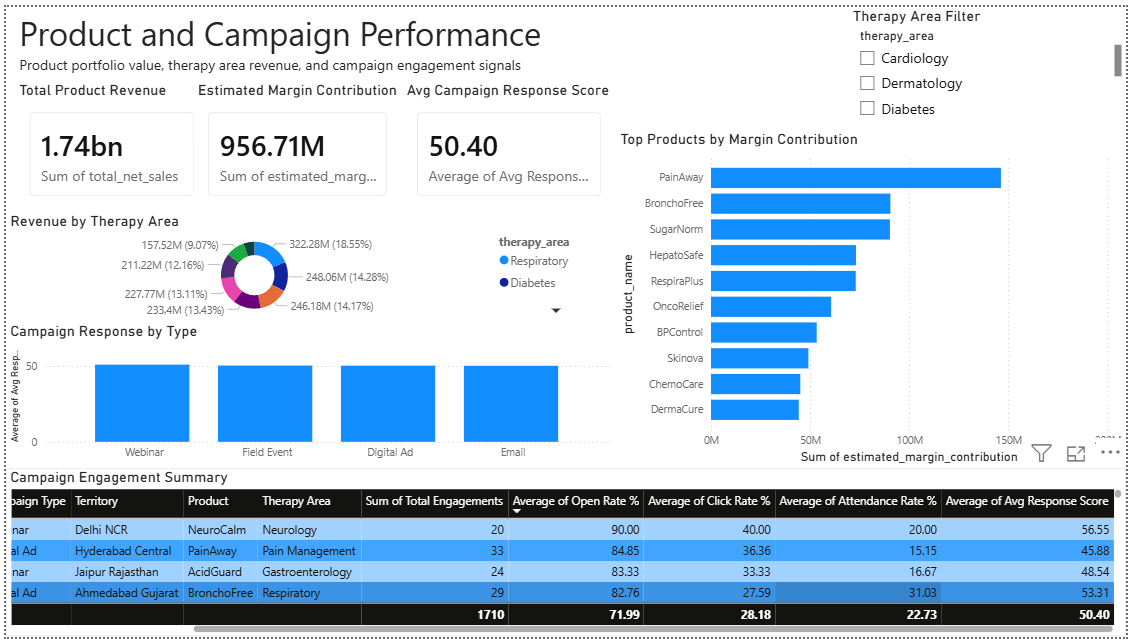

The dashboard page shown, as its layout file describes it:
{"tool":"powerbi","page":{"name":"Product and Campaign Performance","canvas":[1280,720],"ordinal":3},"visuals":[{"type":"textbox","box":[10,0,630,84.3],"z":0},{"type":"cardVisual","title":"Total Product Revenue","fields":{"Data":["Sum(public vw_product_margin_summary.total_net_sales)"]},"box":[10,84.3,222.9,150],"z":1},{"type":"cardVisual","title":"Estimated Margin Contribution","fields":{"Data":["Sum(public vw_product_margin_summary.estimated_margin_contribution)"]},"box":[214.3,84.3,238.6,150],"z":2},{"type":"cardVisual","title":"Avg Campaign Response Score","fields":{"Data":["Avg(public vw_campaign_effectiveness.avg_response_score)"]},"box":[452.9,84.3,244.3,150],"z":3},{"type":"clusteredBarChart","title":"Top Products by Margin Contribution","fields":{"Category":["public vw_product_margin_summary.product_name"],"Y":["Sum(public vw_product_margin_summary.estimated_margin_contribution)"]},"box":[697.1,140,582.9,387.1],"z":4},{"type":"donutChart","title":"Revenue by Therapy Area","fields":{"Category":["public vw_product_margin_summary.therapy_area"],"Y":["Sum(public vw_product_margin_summary.total_net_sales)"]},"box":[0,234.3,697.1,125.7],"z":5},{"type":"clusteredColumnChart","title":"Campaign Response by Type","fields":{"Category":["public vw_campaign_effectiveness.campaign_type"],"Y":["Avg(public vw_campaign_effectiveness.avg_response_score)"]},"box":[0,360,697.1,167.1],"z":6},{"type":"tableEx","title":"Campaign Engagement Summary","fields":{"Values":["public vw_campaign_effectiveness.campaign_name","public vw_campaign_effectiveness.campaign_type","public vw_campaign_effectiveness.territory_name","public vw_campaign_effectiveness.product_name","public vw_campaign_effectiveness.therapy_area","Sum(public vw_campaign_effectiveness.total_engagements)","Avg(public vw_campaign_effectiveness.open_rate_pct)","Avg(public vw_campaign_effectiveness.click_rate_pct)","Avg(public vw_campaign_effectiveness.attendance_rate_pct)","Avg(public vw_campaign_effectiveness.avg_response_score)"]},"box":[0,527.1,1280,192.9],"z":7},{"type":"slicer","title":"Therapy Area Filter","fields":{"Values":["public vw_product_margin_summary.therapy_area"]},"box":[962.9,0,317.1,140],"z":9}]}

Visuals, with their boxes in screenshot pixels (x1, y1, x2, y2), scaled from the page's 1280x720 canvas onto the 1132x641 screenshot:
textbox: pyautogui.locateOnScreen(9, 0, 566, 75)
"Total Product Revenue" cardVisual: pyautogui.locateOnScreen(9, 75, 206, 209)
"Estimated Margin Contribution" cardVisual: pyautogui.locateOnScreen(190, 75, 401, 209)
"Avg Campaign Response Score" cardVisual: pyautogui.locateOnScreen(401, 75, 617, 209)
"Top Products by Margin Contribution" clusteredBarChart: pyautogui.locateOnScreen(616, 125, 1131, 469)
"Revenue by Therapy Area" donutChart: pyautogui.locateOnScreen(0, 209, 616, 320)
"Campaign Response by Type" clusteredColumnChart: pyautogui.locateOnScreen(0, 320, 616, 469)
"Campaign Engagement Summary" tableEx: pyautogui.locateOnScreen(0, 469, 1131, 640)
"Therapy Area Filter" slicer: pyautogui.locateOnScreen(852, 0, 1131, 125)
